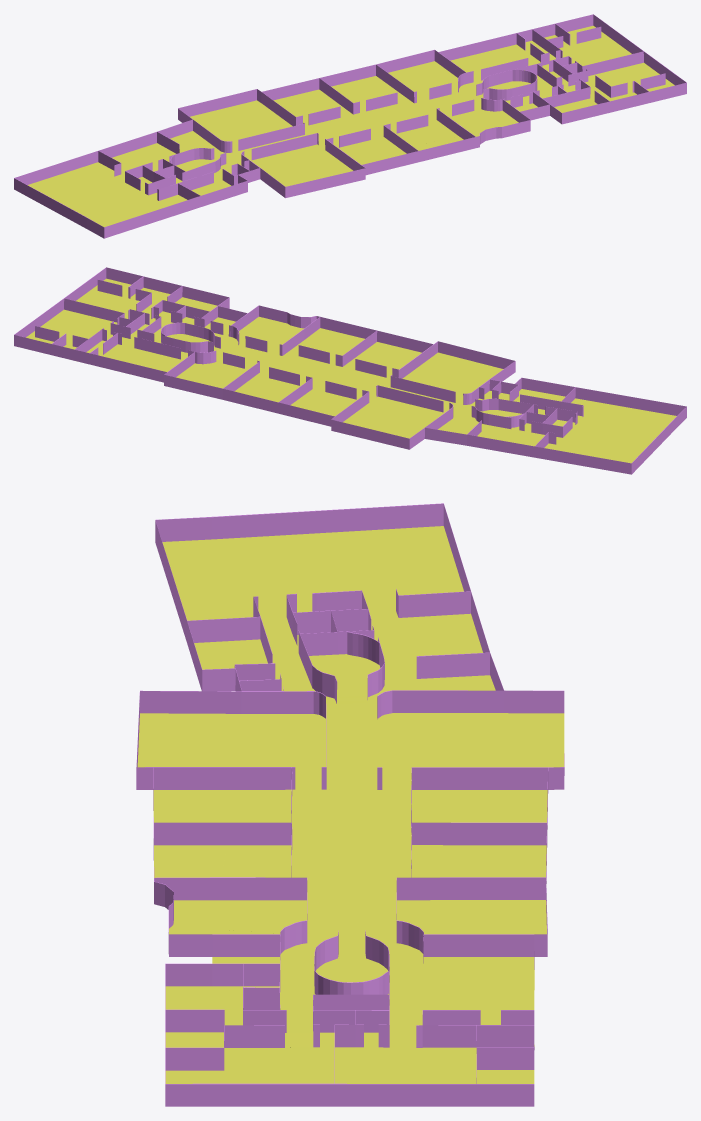
File: hoboken_inside.fbx
3 views of the same model, one above another, from view 1: azimuth 30°, elevation 25°; view 2: azimuth 150°, elevation 25°; view 3: azimuth 270°, elevation 25° (orthographic). The views are drawn at different scales.
Visible parts, largest first — view 1: Cube; view 2: Cube; view 3: Cube.
Part boxes in pixels (left/top/right/bottom): Cube: left=14, top=14, right=686, bottom=238; Cube: left=14, top=267, right=686, bottom=474; Cube: left=136, top=503, right=564, bottom=1106.
Bounding box in the file's own units: 43629 × 788 × 13588.
